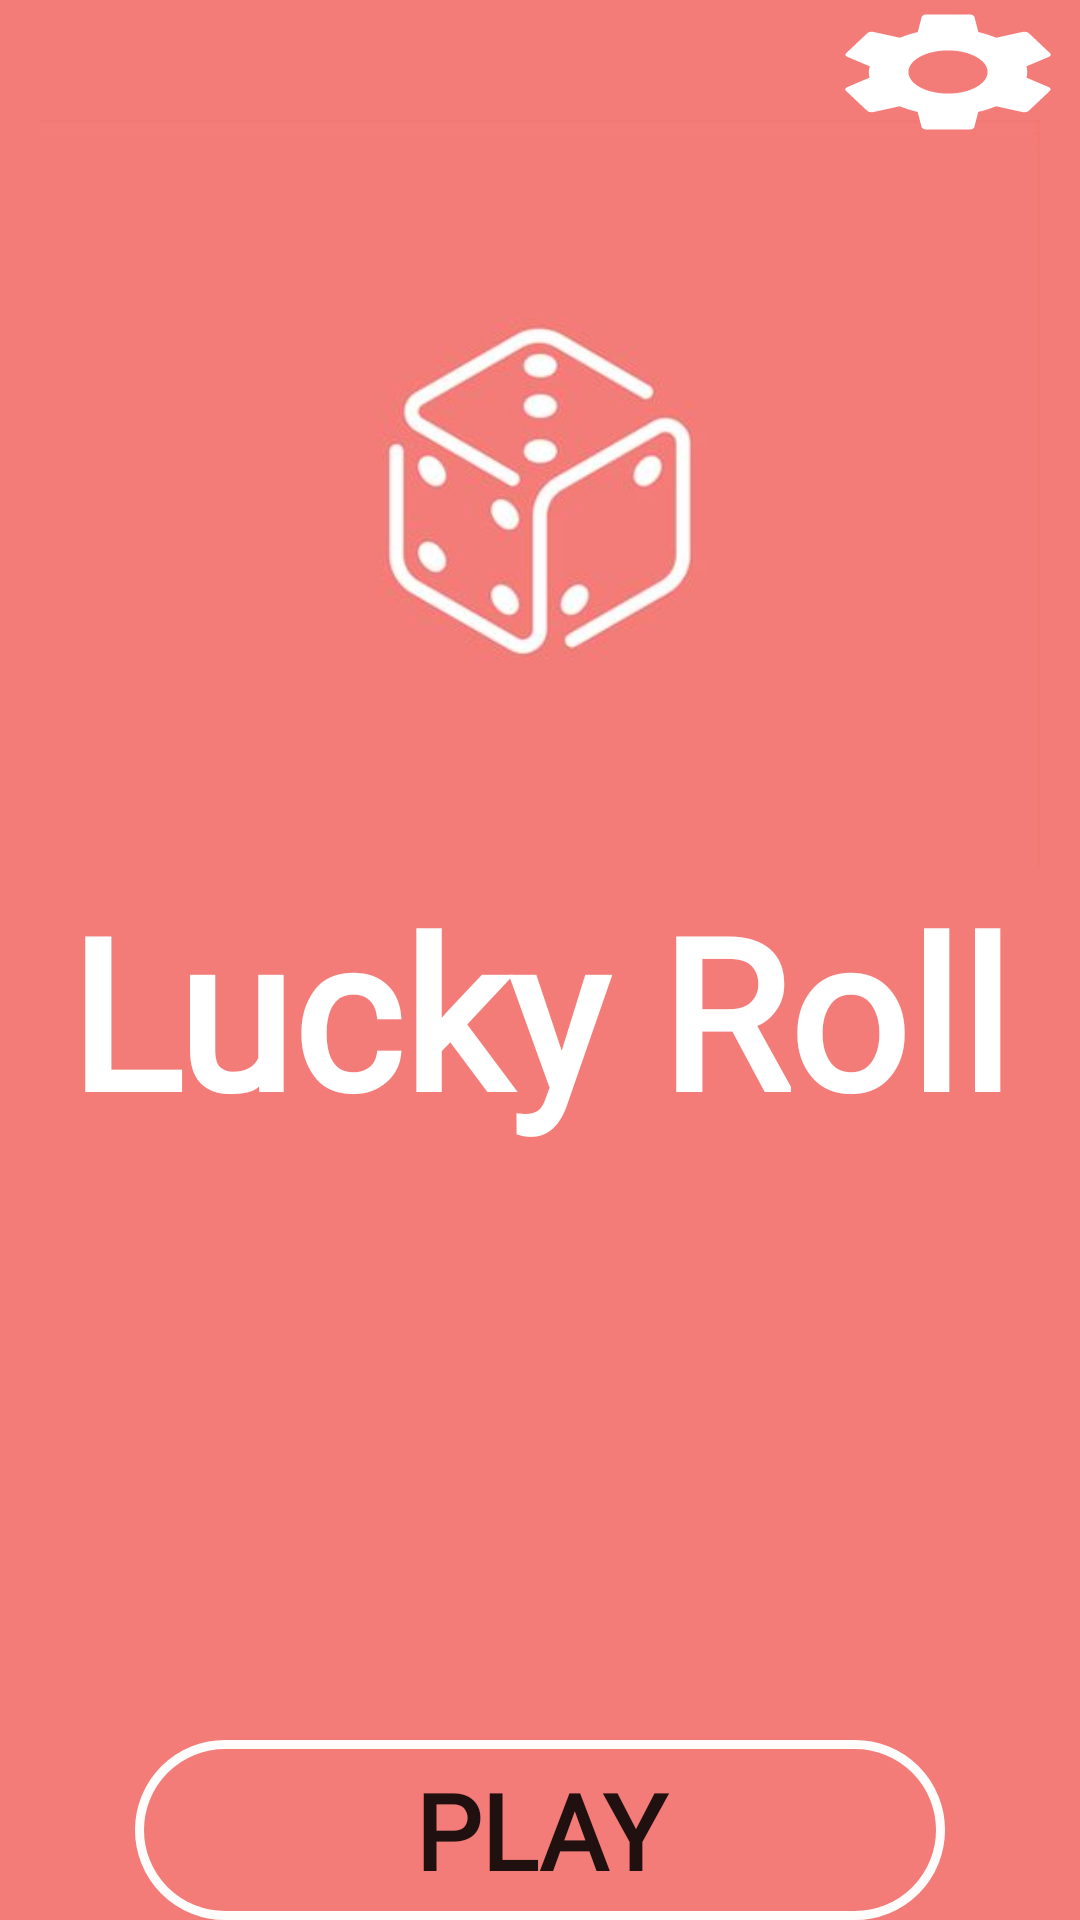

Locate icon controls on the screen. Image size 1080px×1920px, boxes as bbox=(x1, y1, x2, y2).
settings: bbox=(845, 14, 1051, 130)
